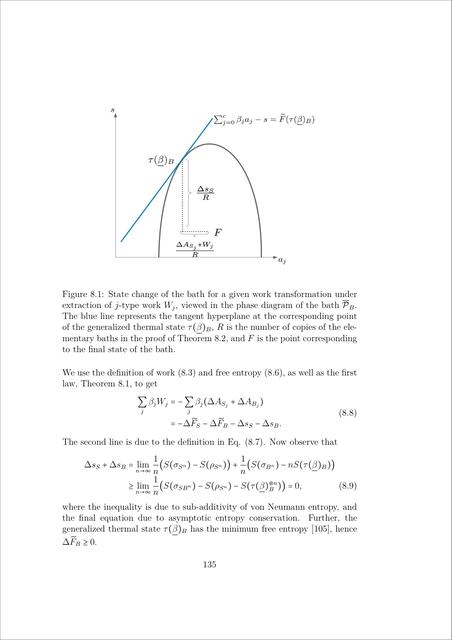box: (108, 103, 316, 266)
